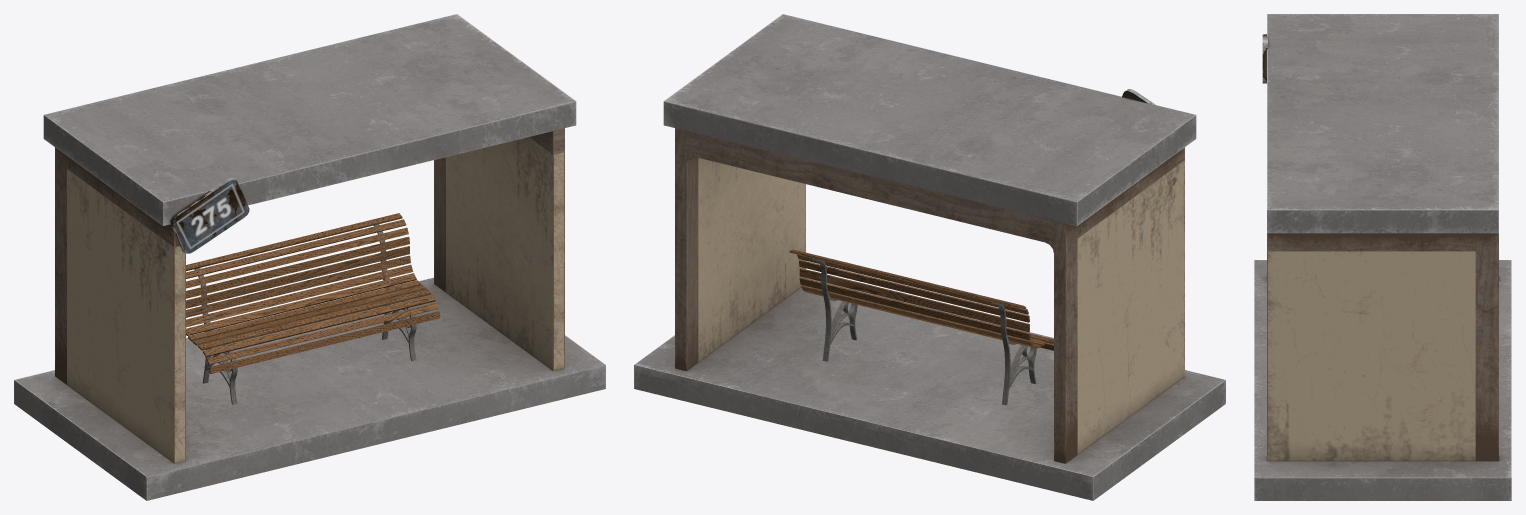
File: Parada bondi.glb
The picture shows the model from 3 angles, left to right: view 1: azimuth 30°, elevation 25°; view 2: azimuth 150°, elevation 25°; view 3: azimuth 270°, elevation 25°; orthographic projection. The views are drawn at different scales.
Visible parts, largest first — view 1: Parada; view 2: Parada; view 3: Parada.
Boxes of the visible parts, bbox=[...] form: Parada: bbox=[14, 14, 605, 500]; Parada: bbox=[634, 14, 1225, 500]; Parada: bbox=[1254, 14, 1511, 500].
Bounding box in the file's own units: 20 × 12.32 × 10.
2 materials, 2 textured.
